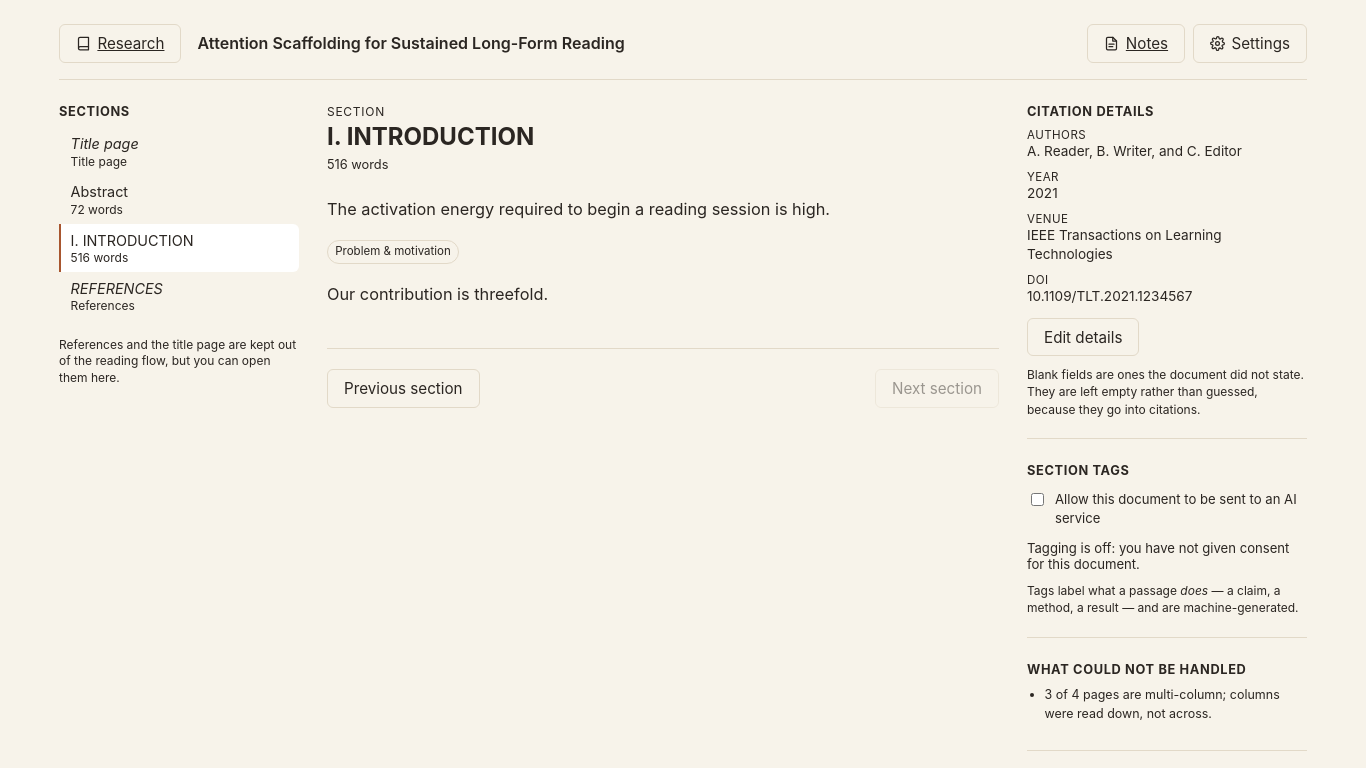
Test: the research reader › moves to the previous section and leaves the next one disabled at the end
Check: the heading "I. INTRODUCTION" is shown, box x1=327 y1=122 x2=534 y2=151
Check: the button "Next section" is disabled, box x1=875 y1=369 x2=999 y2=408
Click the button "Previous section" at (403, 389), box x1=327 y1=369 x2=480 y2=408
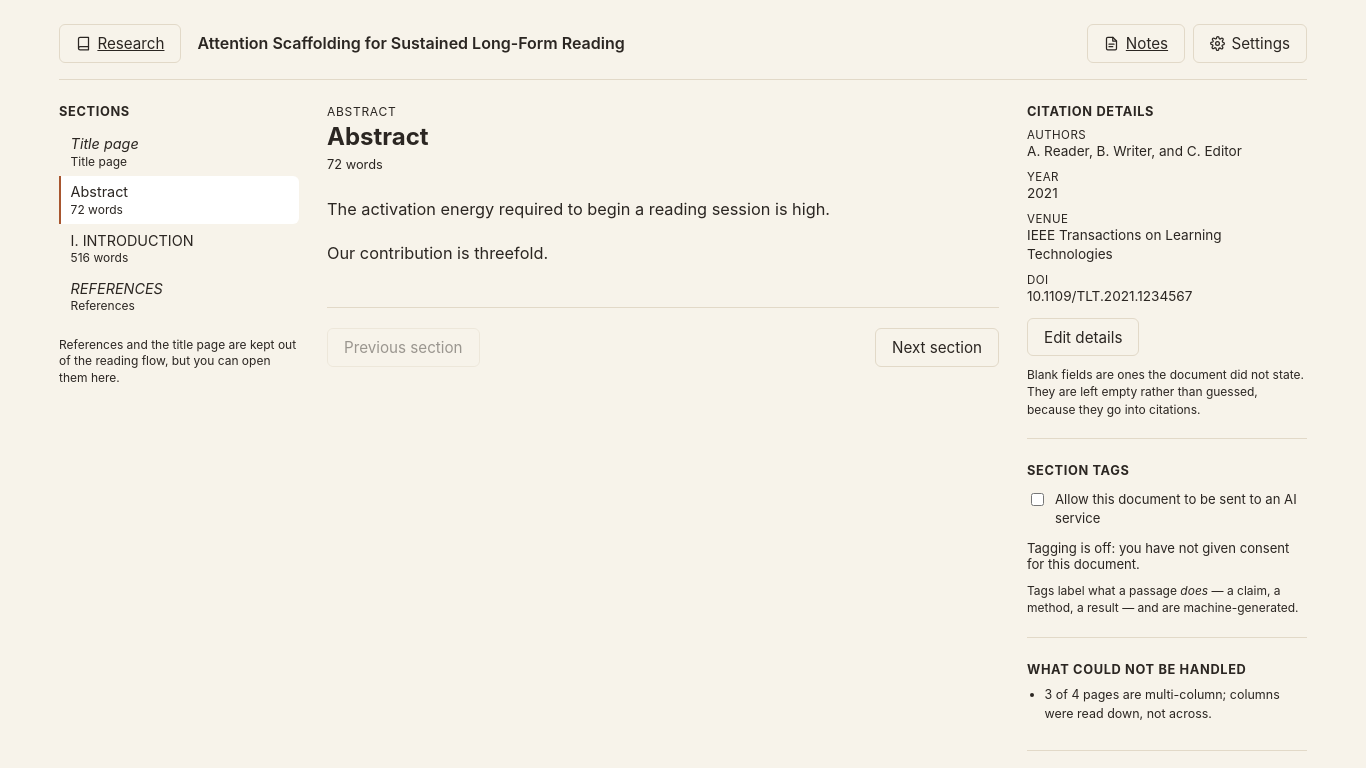
Check: the heading "Abstract" is shown, box x1=327 y1=122 x2=429 y2=151
